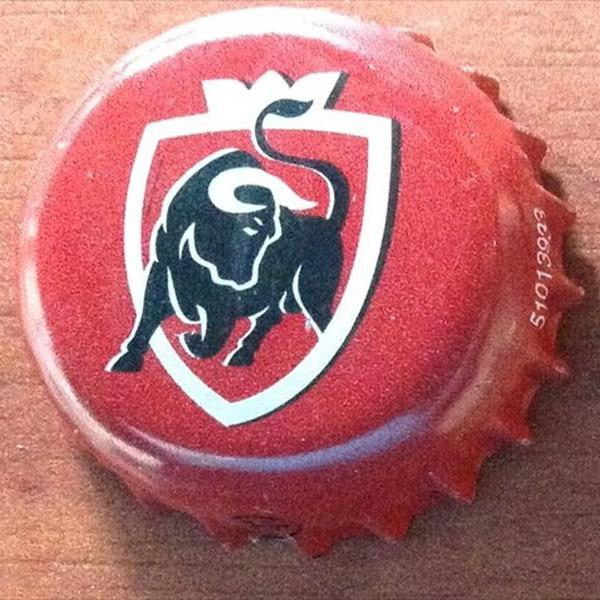jupiler: (10, 2, 588, 566)
